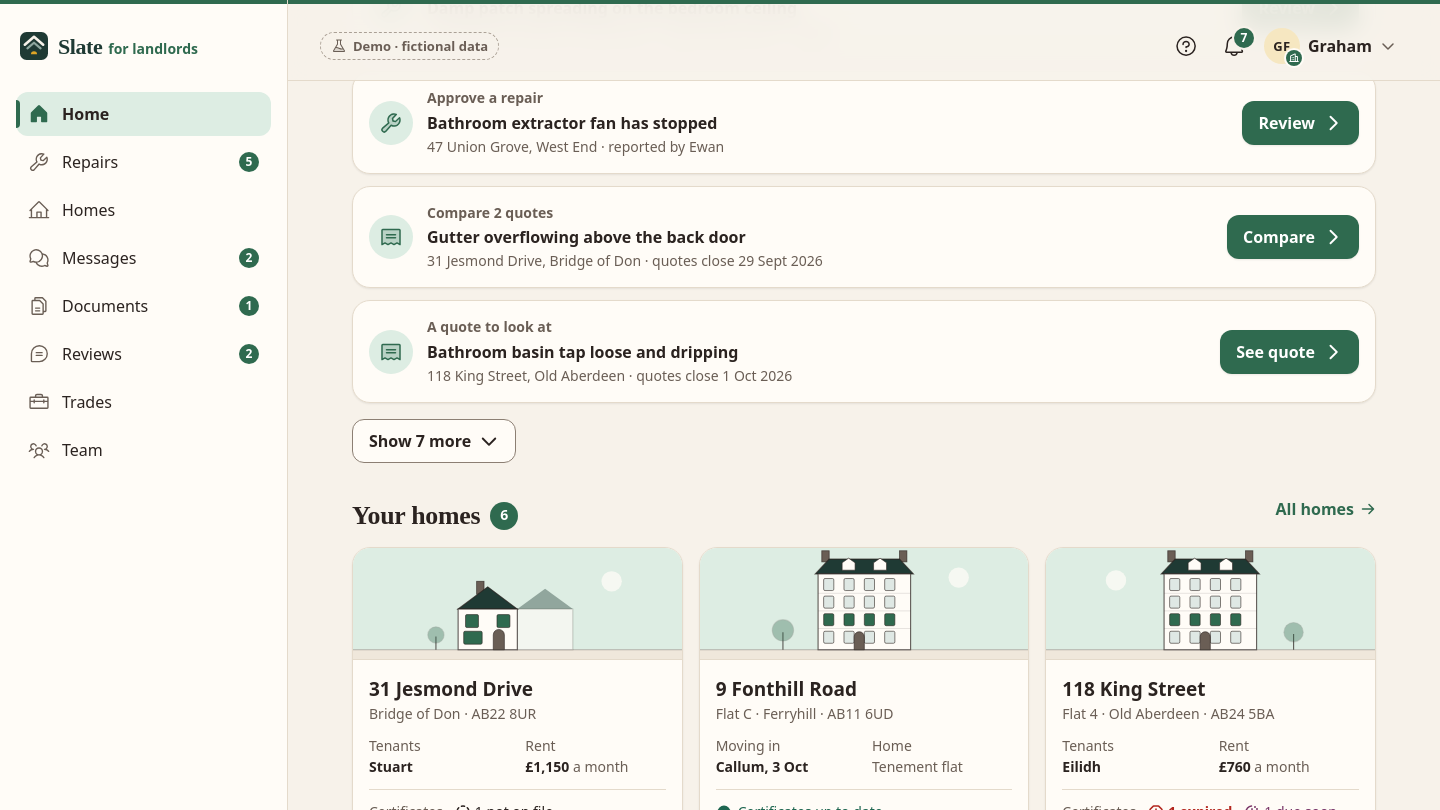
Test: the landlord’s home › shows five things at first and the rest on request, including ratings owed
The image size is (1440, 810).
(page scrolled)
What coordinates should you click on to do the following:
click the button "Show 7 more"
I would click on:
 (434, 441)
Its box is [352,419,516,463].
(page scrolled)
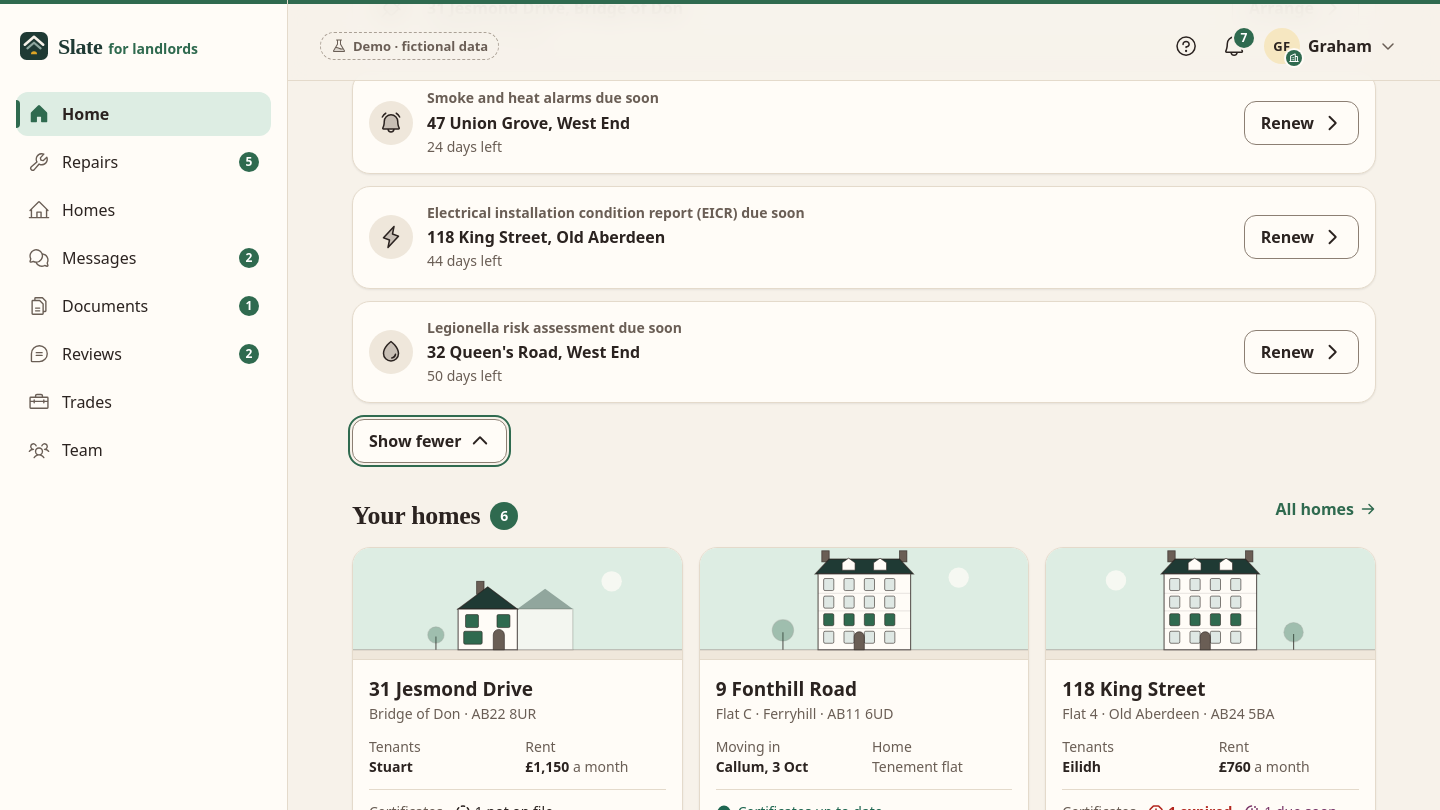
Expected: the button "Show fewer" is expanded, [352,419,506,463]
